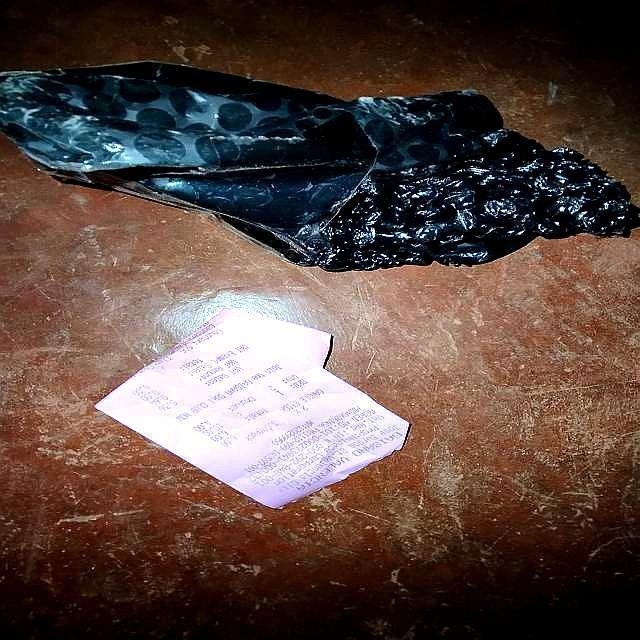Non-biodegradable: (1, 62, 640, 275)
